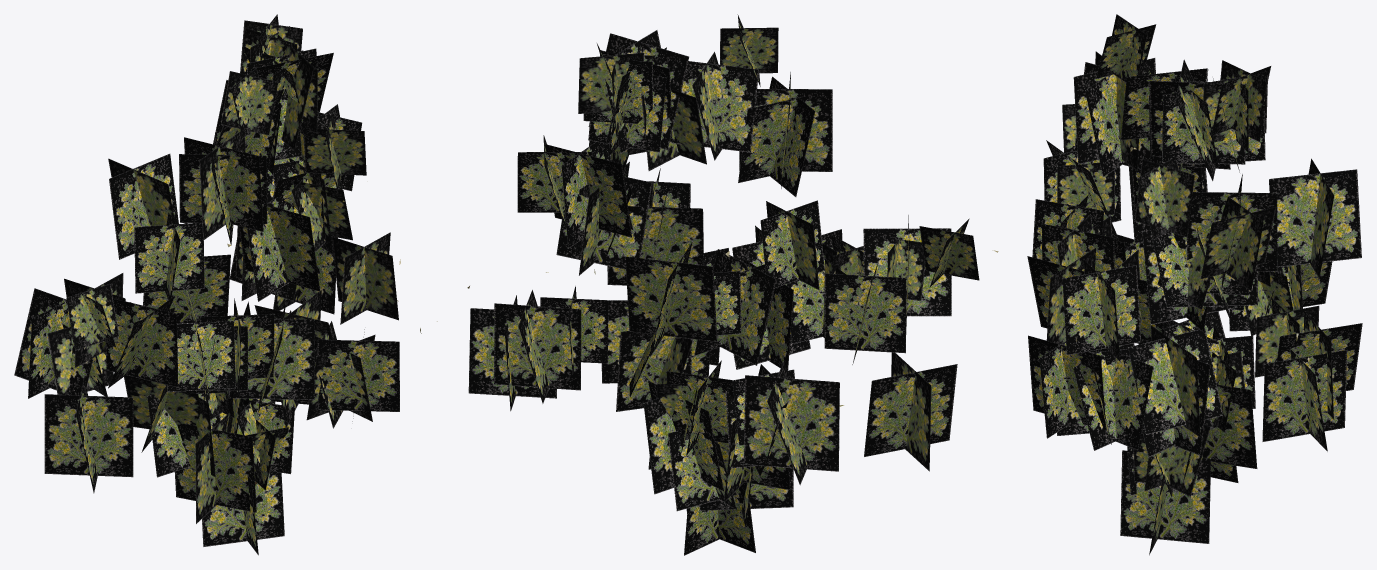
Rendered from paloverde.glb.
3 renders of one model, left to right at view 1: azimuth 30°, elevation 25°; view 2: azimuth 150°, elevation 25°; view 3: azimuth 270°, elevation 25°, orthographic. The views are drawn at different scales.
Visible parts, largest first — view 1: cards; view 2: cards; view 3: cards.
Boxes of the visible parts, x1,y1,x2,y2 form: cards: [14, 14, 399, 555]; cards: [468, 14, 979, 555]; cards: [1027, 14, 1362, 555].
Size of the model in its own units: 0.8258 by 0.9871 by 0.5923.
Materials: 2 (2 with a texture image).
